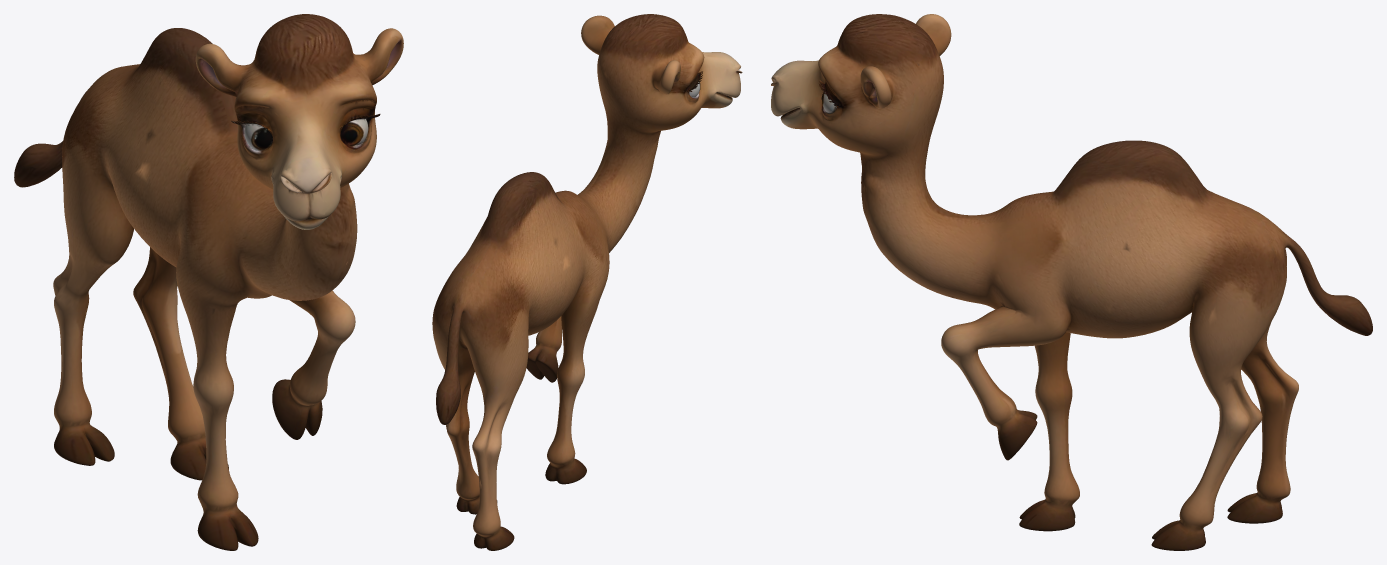
Rendered from mobile.glb.
The picture shows the model from 3 angles, left to right: view 1: azimuth 30°, elevation 25°; view 2: azimuth 150°, elevation 25°; view 3: azimuth 270°, elevation 25°; orthographic projection. The views are drawn at different scales.
Visible parts, largest first — view 1: material; view 2: material; view 3: material.
Part boxes in pixels (x1,y1,x2,y2): material: [14, 14, 403, 550]; material: [432, 14, 742, 550]; material: [771, 14, 1372, 550].
Bounding box in the file's own units: 0.2955 × 0.9104 × 1.
Materials: 1 (1 with a texture image).
